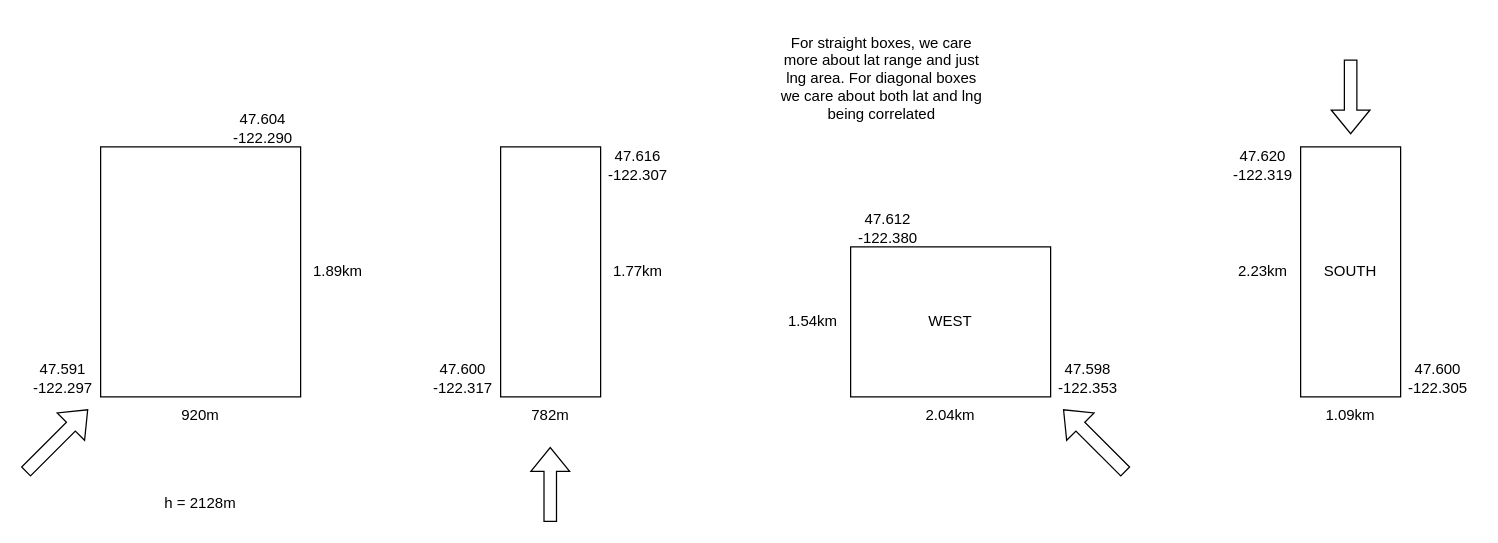
The diagram is 1498 pixels wide and 543 high, and some of its shapes have lost their labels. The centre of each missing label's shape, as x and y in pixels:
"EAST" belongs at (200,271).
"NORTH" belongs at (550,271).
